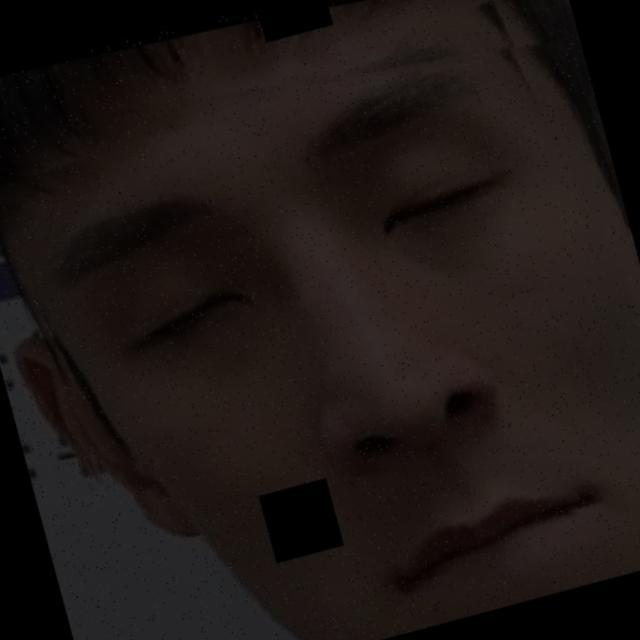Angry: (19, 67, 638, 614)
